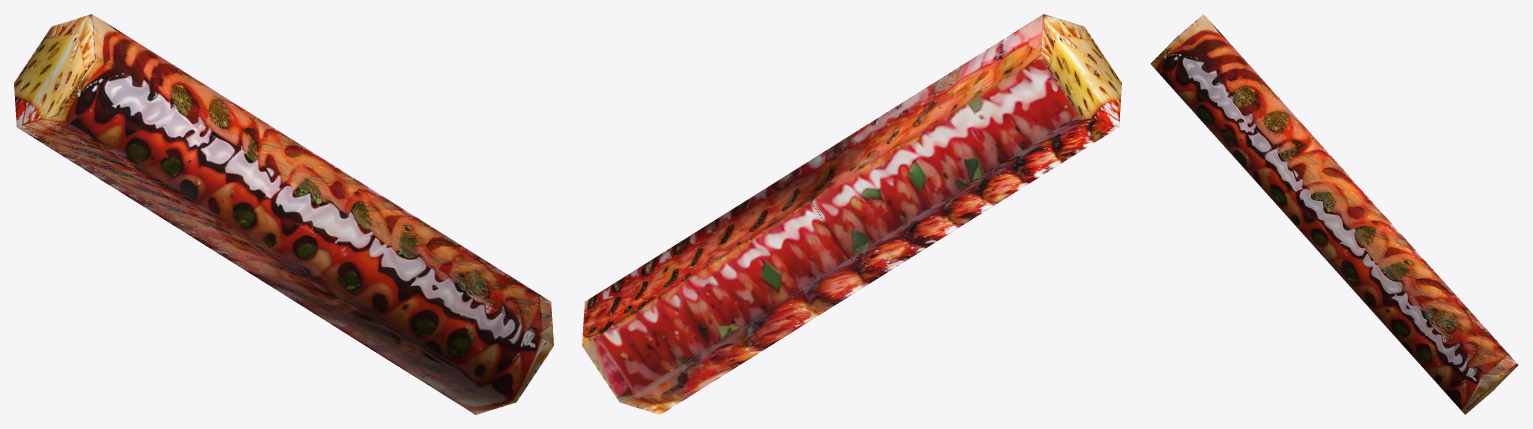
The model's file is sasuage1.glb.
The picture shows the model from 3 angles, left to right: view 1: azimuth 30°, elevation 25°; view 2: azimuth 150°, elevation 25°; view 3: azimuth 330°, elevation 25°; orthographic projection. The views are drawn at different scales.
Bounding box in the file's own units: 4.44 × 3.93 × 0.6229.
1 material, 1 textured.
